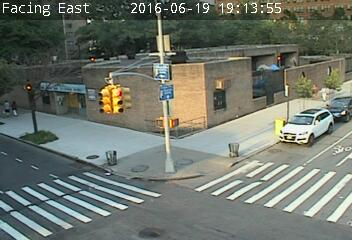neg: (259, 167, 275, 189), (42, 153, 58, 175), (223, 122, 238, 142), (152, 23, 167, 43), (143, 92, 158, 111), (187, 117, 201, 137), (160, 145, 174, 164), (104, 31, 118, 49), (236, 36, 249, 54), (96, 164, 109, 181), (99, 71, 112, 88), (207, 172, 219, 188), (71, 107, 83, 123), (222, 14, 233, 28), (277, 13, 288, 27), (194, 88, 204, 101)
pos: (317, 83, 331, 101), (8, 100, 21, 117), (306, 80, 317, 95)
